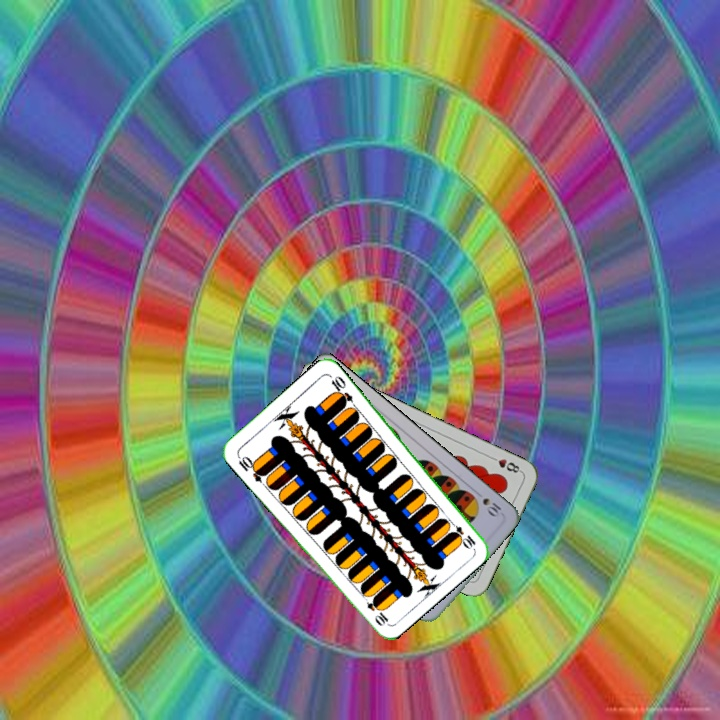E10: (233, 451, 268, 485), (445, 516, 478, 550)
H8: (486, 452, 524, 476)
S10: (471, 487, 504, 520)
